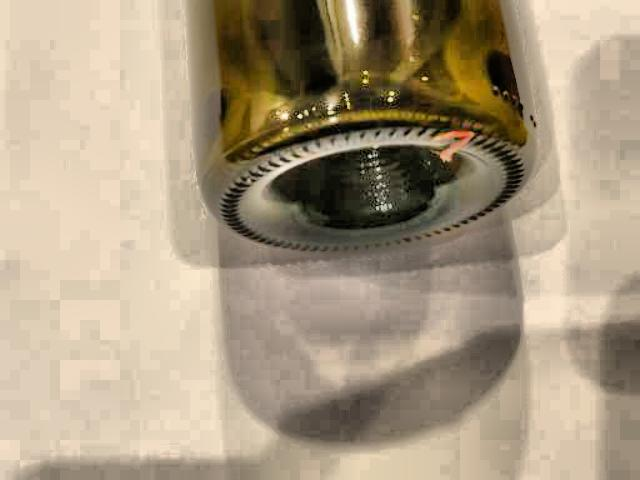Bottles: (136, 0, 550, 290)
